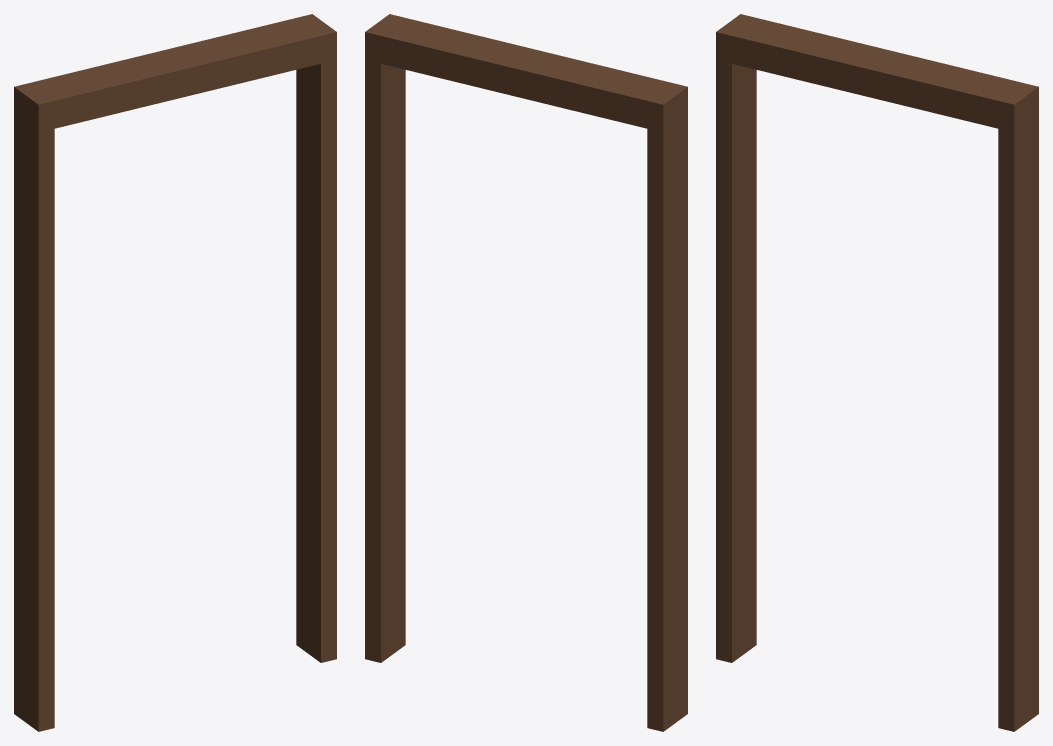
File: door-frame.glb
3 views of the same model, side by side, from view 1: azimuth 30°, elevation 25°; view 2: azimuth 150°, elevation 25°; view 3: azimuth 330°, elevation 25° (orthographic).
Parts seen in each view (by area): view 1: post-left, post-right, head; view 2: post-left, post-right, head; view 3: post-right, post-left, head.
Part boxes in pixels (x1=…): post-left: x1=14, y1=101, x2=54, y2=731; post-right: x1=296, y1=46, x2=336, y2=662; head: x1=14, y1=14, x2=336, y2=132; post-left: x1=647, y1=101, x2=687, y2=731; post-right: x1=365, y1=46, x2=405, y2=662; head: x1=365, y1=14, x2=687, y2=132; post-right: x1=998, y1=101, x2=1038, y2=731; post-left: x1=716, y1=46, x2=756, y2=662; head: x1=716, y1=14, x2=1038, y2=132.
Size of the model in its own units: 1.12 by 2.25 by 0.16.
